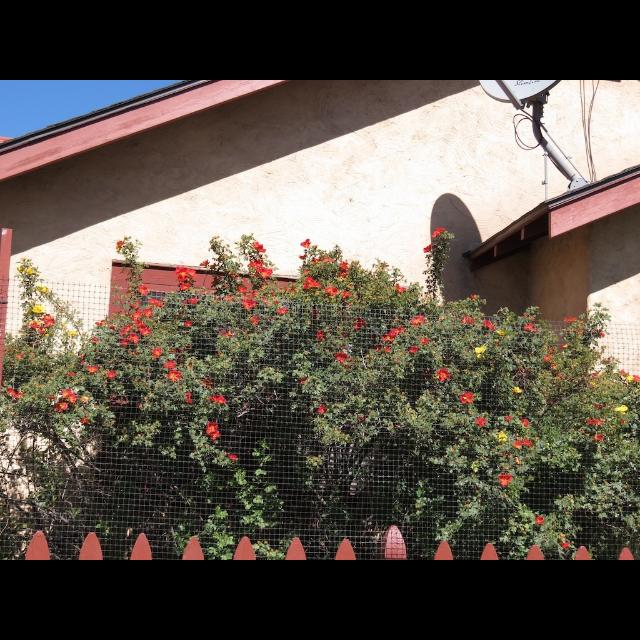Flower: (10, 261, 50, 341), (227, 285, 290, 323), (117, 296, 153, 348), (247, 242, 275, 280), (371, 328, 401, 359), (171, 264, 197, 290), (53, 383, 73, 415), (319, 330, 335, 360), (337, 344, 358, 364), (301, 272, 319, 292), (199, 422, 219, 438), (546, 350, 556, 382), (427, 226, 447, 238), (199, 260, 213, 276), (4, 388, 22, 400), (166, 362, 178, 380), (494, 431, 510, 444), (107, 363, 115, 382), (209, 396, 227, 404), (475, 348, 483, 366), (501, 474, 513, 486), (114, 242, 124, 256), (437, 364, 447, 378), (134, 286, 150, 294), (299, 238, 315, 246), (481, 318, 495, 327), (318, 403, 329, 413), (311, 258, 329, 264), (410, 344, 418, 356), (461, 319, 473, 326), (183, 388, 191, 398), (307, 310, 315, 320), (78, 397, 90, 403), (462, 393, 470, 402), (477, 421, 488, 427), (90, 341, 98, 349), (187, 298, 195, 306), (224, 454, 232, 462), (415, 317, 423, 325), (469, 295, 477, 303), (92, 326, 102, 332), (154, 296, 160, 306), (340, 293, 350, 299), (422, 339, 428, 349), (154, 348, 160, 357), (596, 433, 602, 442), (224, 328, 230, 336), (298, 252, 304, 260), (357, 316, 361, 328), (423, 248, 435, 252), (592, 419, 602, 423), (17, 353, 23, 359), (397, 288, 403, 294), (513, 386, 519, 392), (620, 409, 626, 415), (90, 368, 94, 376), (300, 380, 308, 384), (538, 517, 542, 525), (81, 414, 85, 420), (326, 289, 330, 295), (515, 444, 521, 448), (564, 544, 570, 548), (620, 371, 626, 375), (342, 265, 344, 275), (67, 373, 71, 377), (358, 415, 362, 419), (506, 417, 510, 421), (522, 420, 526, 424), (525, 442, 529, 446), (562, 344, 566, 348), (634, 376, 636, 380), (185, 322, 188, 323), (594, 377, 596, 378)
